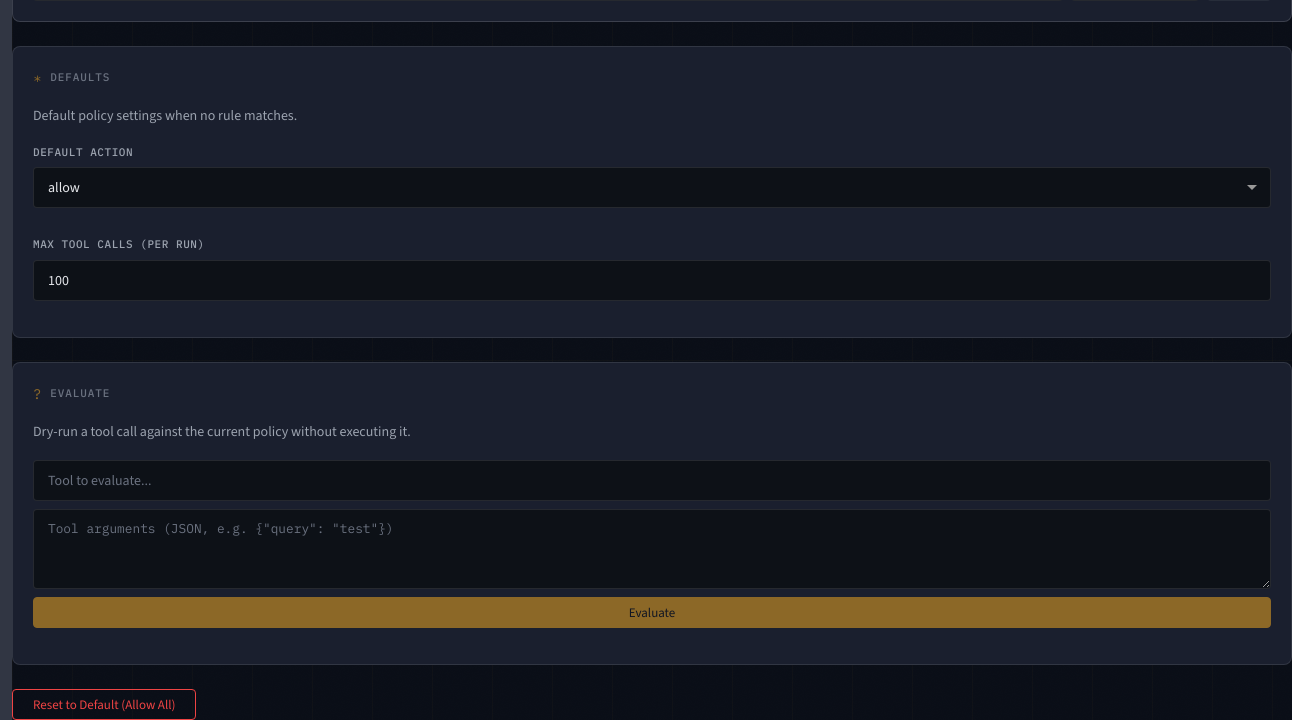
PolicyTab › shows error on evaluate failure
The width and height of the screenshot is (1292, 720).
(page scrolled)
Expected: the button "Evaluate" is shown, [33,597,1271,628]
In the field with placeholder "Tool to evaluate...": [652, 480] box [33,460,1271,501], type "test"
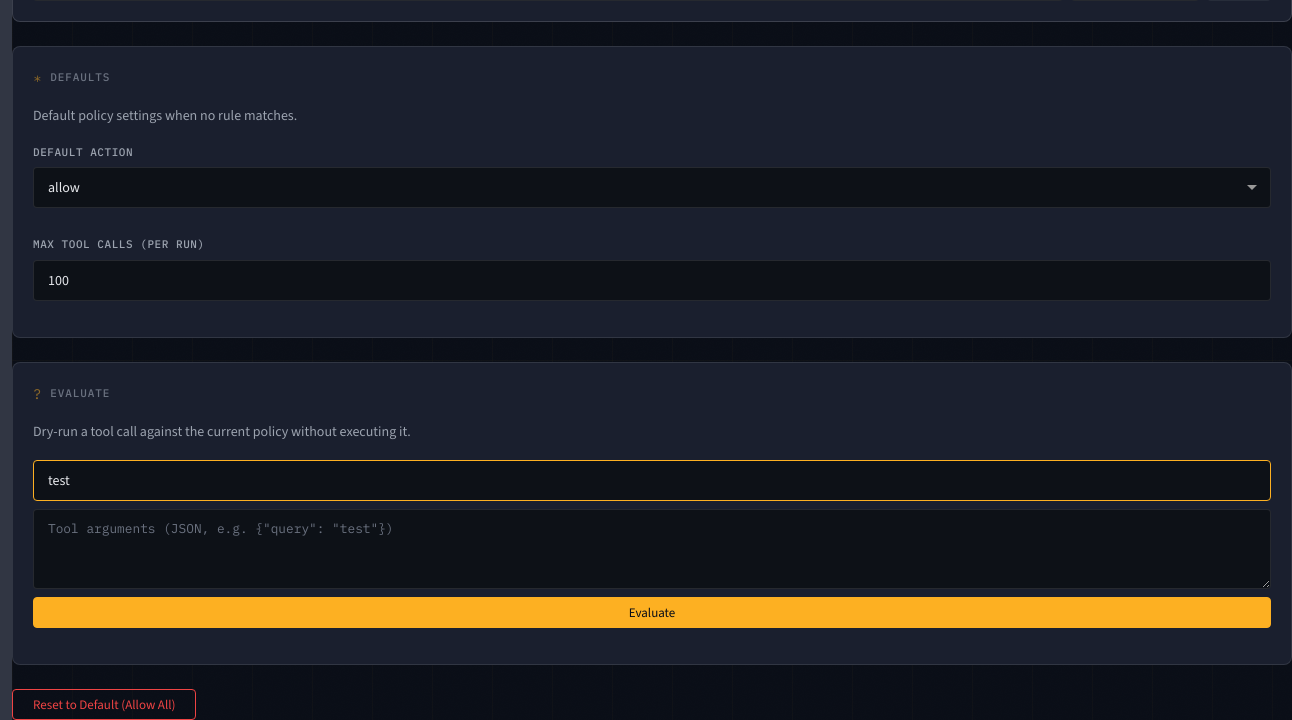
Click the button "Evaluate": [652, 612] box [33,597,1271,628]
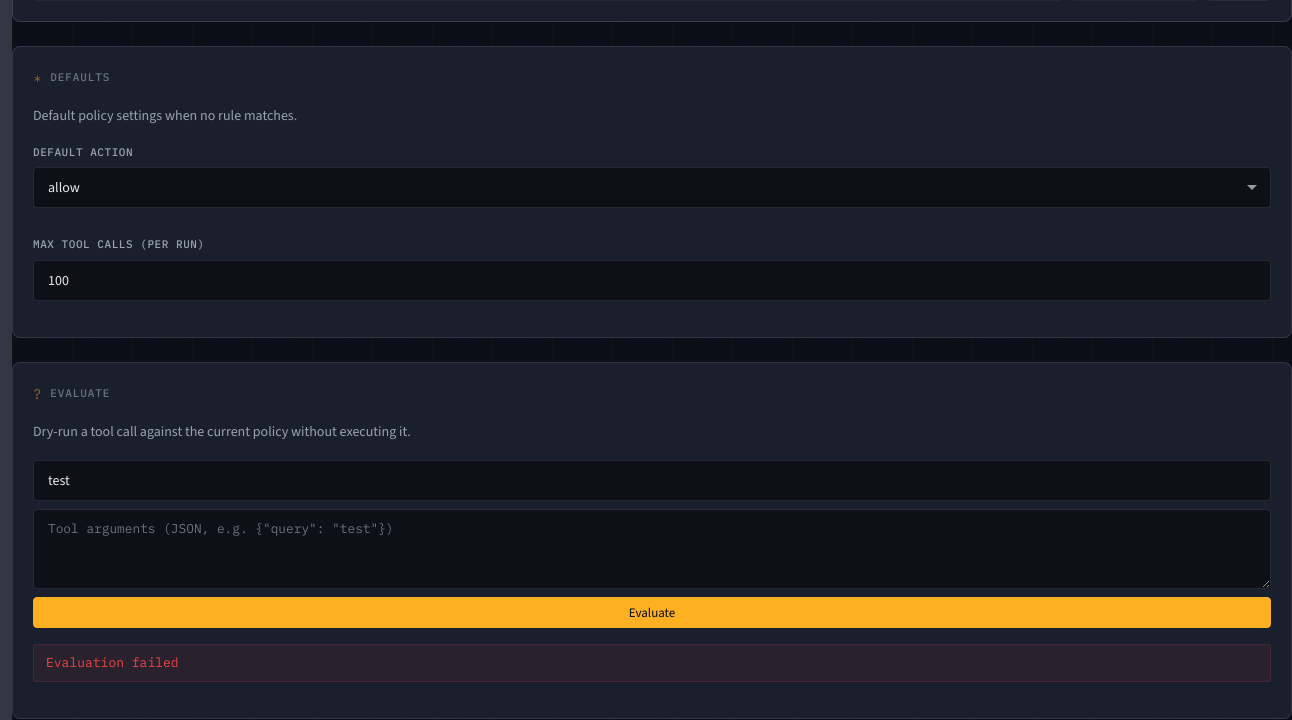
Expected: the text "Evaluation failed" is shown, [33,644,1271,682]
